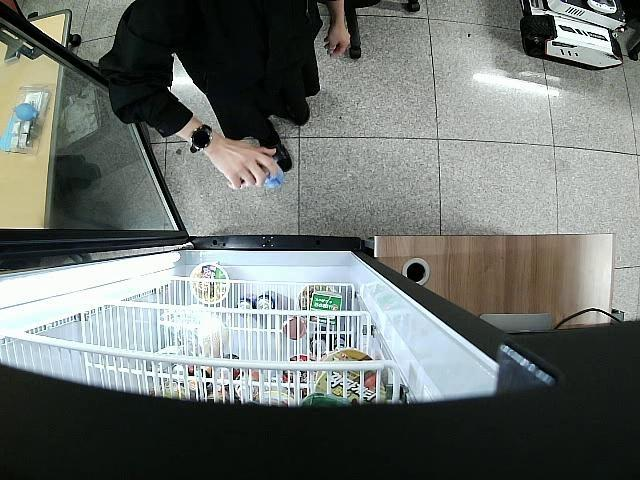15_letsbe: (260, 158, 286, 192)
